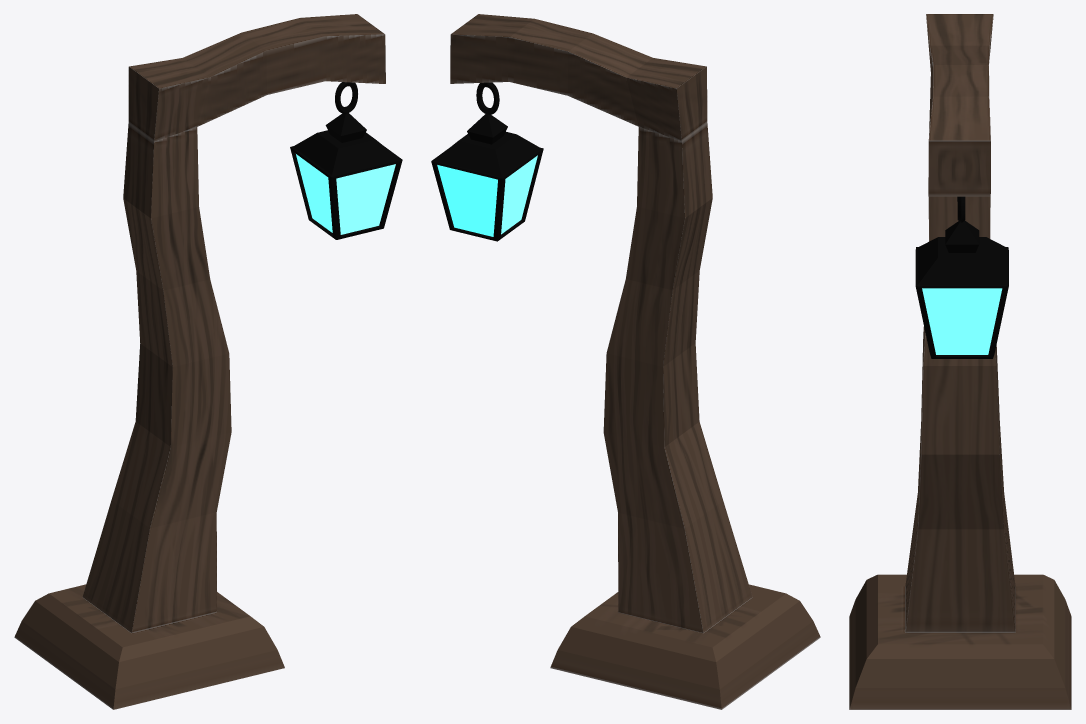
Rendered from lamba.fbx.
The picture shows the model from 3 angles, left to right: view 1: azimuth 30°, elevation 25°; view 2: azimuth 150°, elevation 25°; view 3: azimuth 270°, elevation 25°; orthographic projection. The views are drawn at different scales.
Parts seen in each view (by area): view 1: Cube.017; view 2: Cube.017; view 3: Cube.017.
Part boxes in pixels (left/top/right/bottom): Cube.017: left=14, top=14, right=402, bottom=709; Cube.017: left=431, top=14, right=820, bottom=709; Cube.017: left=849, top=14, right=1071, bottom=709.
Size of the model in its own units: 425 by 744 by 228.
